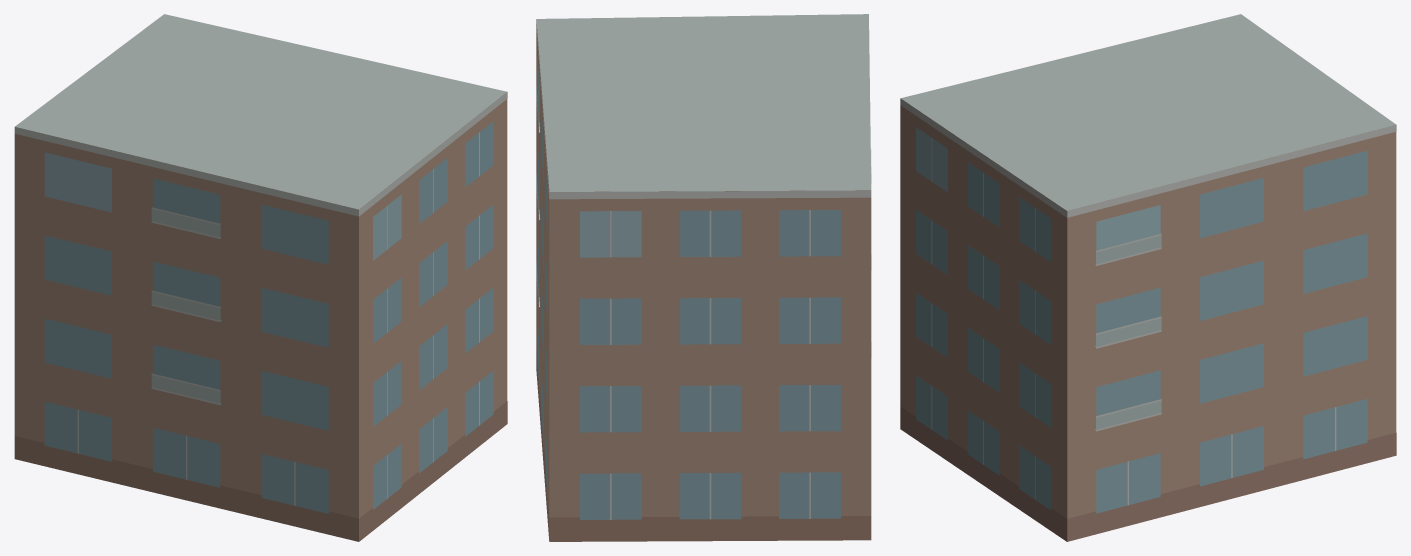
The model's file is survey-upis-32627336.glb.
3 views of the same model, side by side, from view 1: azimuth 30°, elevation 25°; view 2: azimuth 150°, elevation 25°; view 3: azimuth 270°, elevation 25° (orthographic). The views are drawn at different scales.
Visible parts, largest first — view 1: survey-upis-32627336.tmp; view 2: survey-upis-32627336.tmp; view 3: survey-upis-32627336.tmp.
Boxes of the visible parts, bbox=[...] form: survey-upis-32627336.tmp: bbox=[14, 14, 507, 541]; survey-upis-32627336.tmp: bbox=[536, 14, 871, 541]; survey-upis-32627336.tmp: bbox=[900, 14, 1396, 541].
Bounding box in the file's own units: 14.95 × 11.7 × 15.91.
